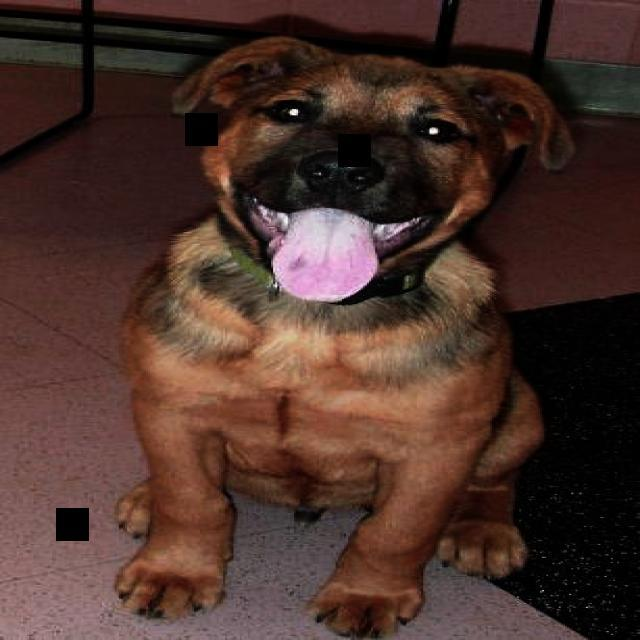puppy-dog: (108, 34, 579, 632)
